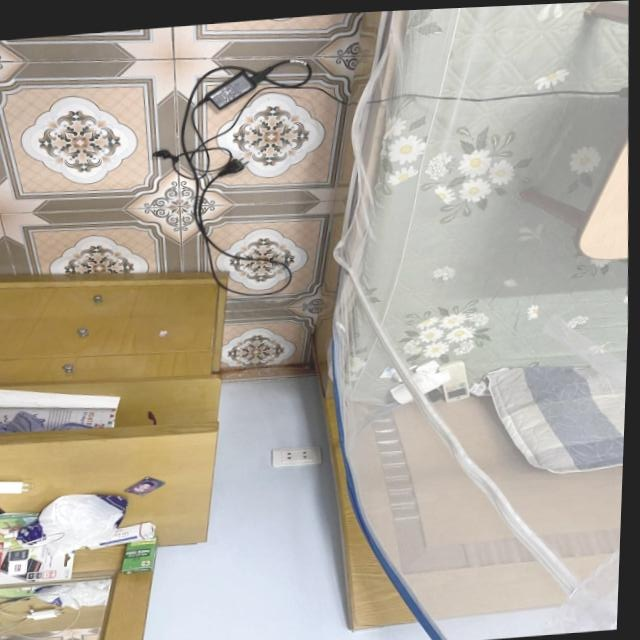outlet: (271, 444, 323, 467)
